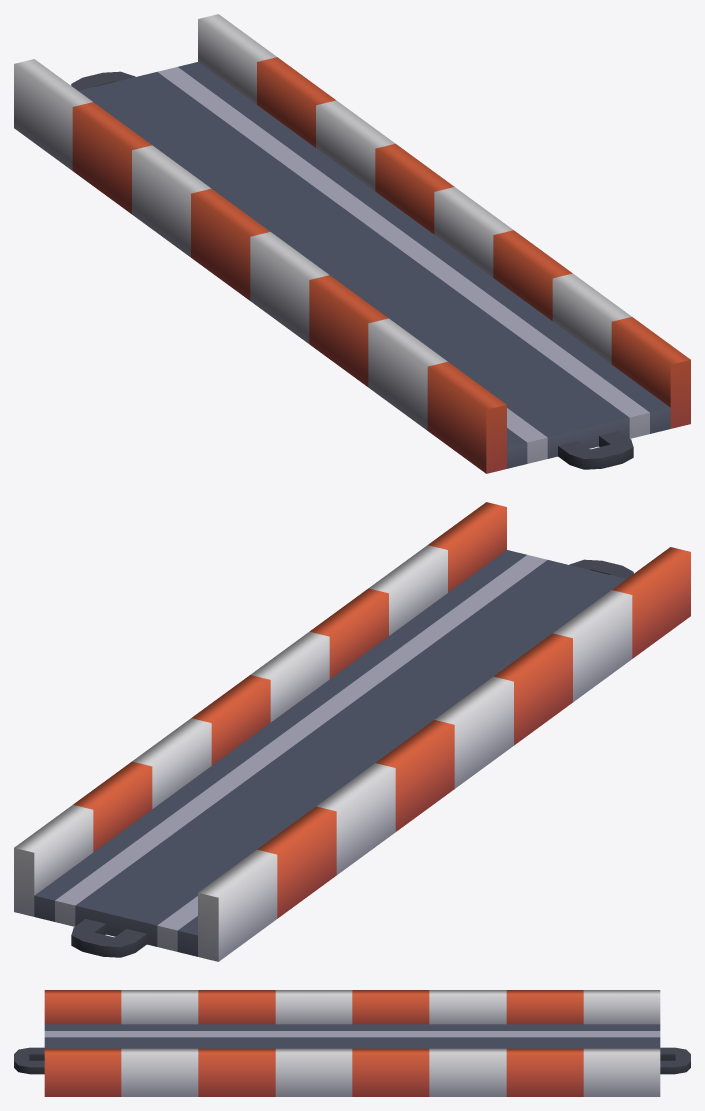
Rendered from track-road-narrow-straight.glb.
3 views of the same model, one above another, from view 1: azimuth 30°, elevation 25°; view 2: azimuth 150°, elevation 25°; view 3: azimuth 270°, elevation 25° (orthographic). The views are drawn at different scales.
Parts seen in each view (by area): view 1: track-road-narrow-straight; view 2: track-road-narrow-straight; view 3: track-road-narrow-straight.
Part boxes in pixels (left/top/right/bottom): track-road-narrow-straight: left=14, top=14, right=690, bottom=473; track-road-narrow-straight: left=14, top=502, right=690, bottom=961; track-road-narrow-straight: left=14, top=990, right=690, bottom=1096.
Size of the model in its own units: 1 by 0.3 by 4.4.
